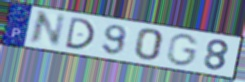0: (133, 27, 165, 63)
8: (203, 38, 230, 72)
9: (99, 23, 131, 56)
D: (63, 16, 96, 51)
G: (165, 33, 201, 68)
N: (27, 10, 68, 48)
